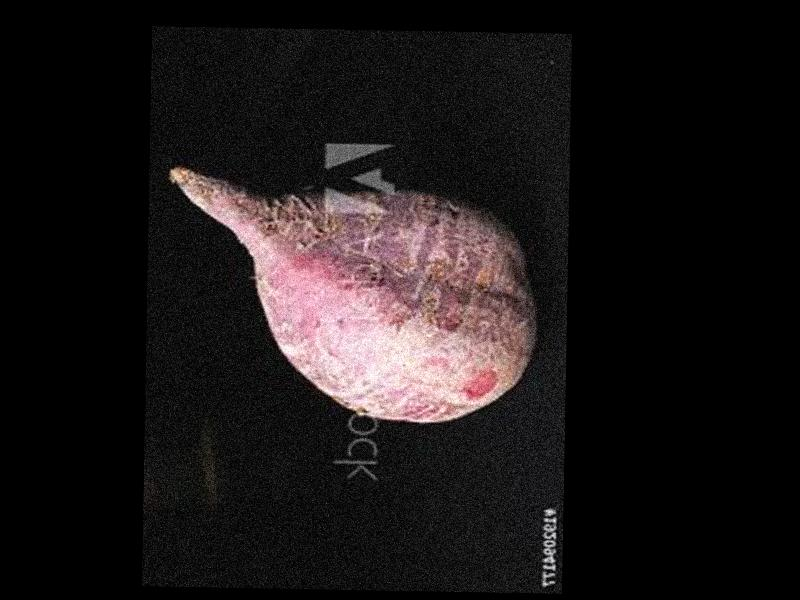Beet: (165, 169, 535, 426)
